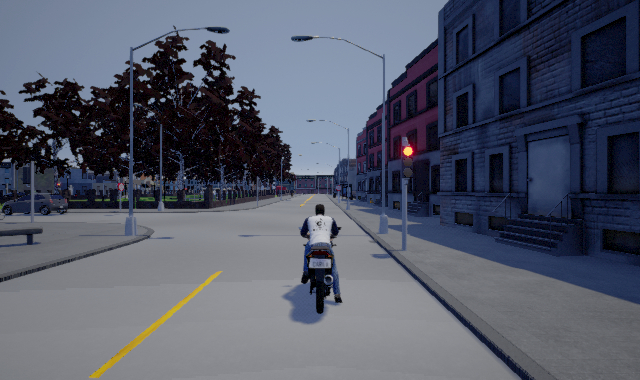motobike: (297, 203, 344, 317)
traffic_light: (401, 144, 414, 178)
traffic_sign: (335, 184, 341, 191)
vehicle: (1, 192, 70, 217)
